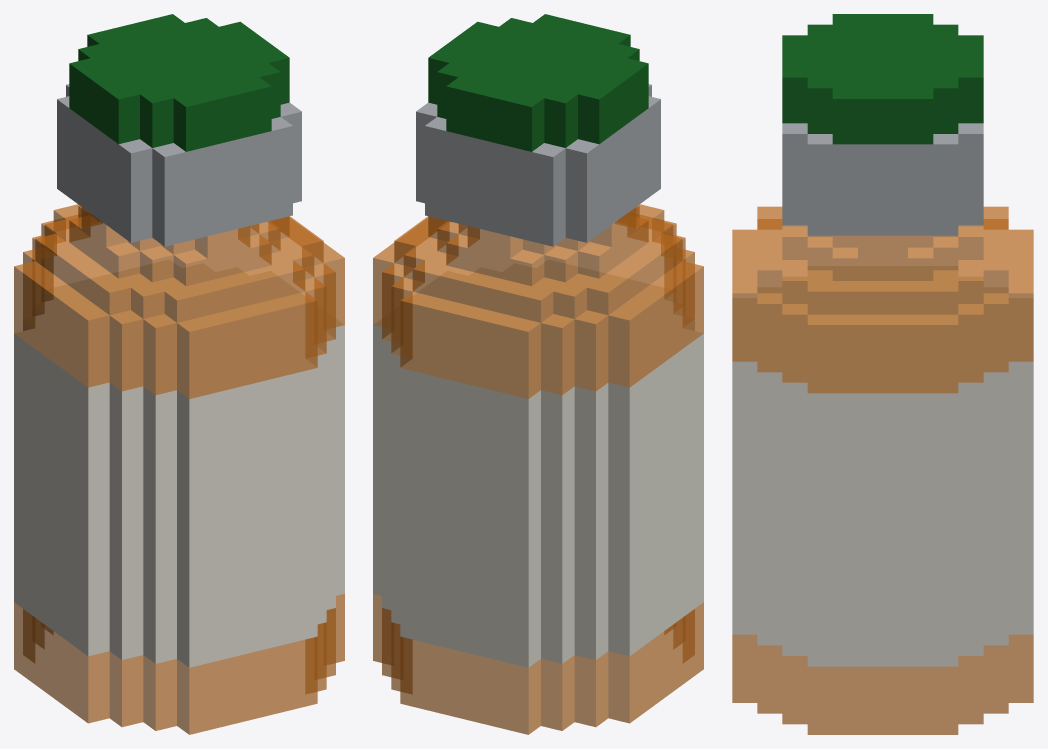
File: prophylactic_antivenom.glb
3 renders of one model, left to right at view 1: azimuth 30°, elevation 25°; view 2: azimuth 150°, elevation 25°; view 3: azimuth 270°, elevation 25°, orthographic.
Parts seen in each view (by area): view 1: prophylactic_antivenom:compound; view 2: prophylactic_antivenom:compound; view 3: prophylactic_antivenom:compound.
Boxes of the visible parts, left/top/right/bottom form: prophylactic_antivenom:compound: left=14, top=14, right=344, bottom=734; prophylactic_antivenom:compound: left=373, top=14, right=703, bottom=734; prophylactic_antivenom:compound: left=732, top=14, right=1033, bottom=734.
Size of the model in its own units: 0.024 by 0.054 by 0.024.
